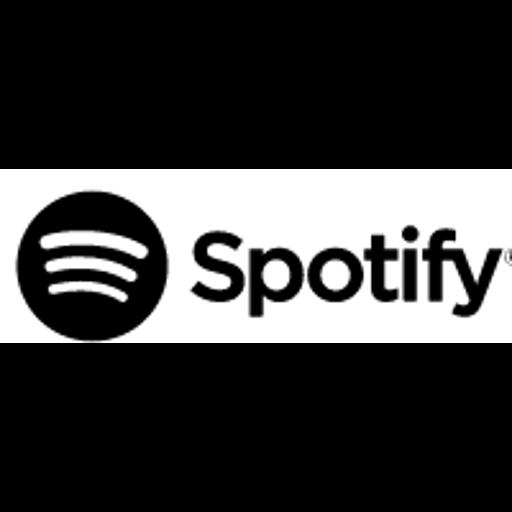Spotify: (0, 169, 512, 343)
